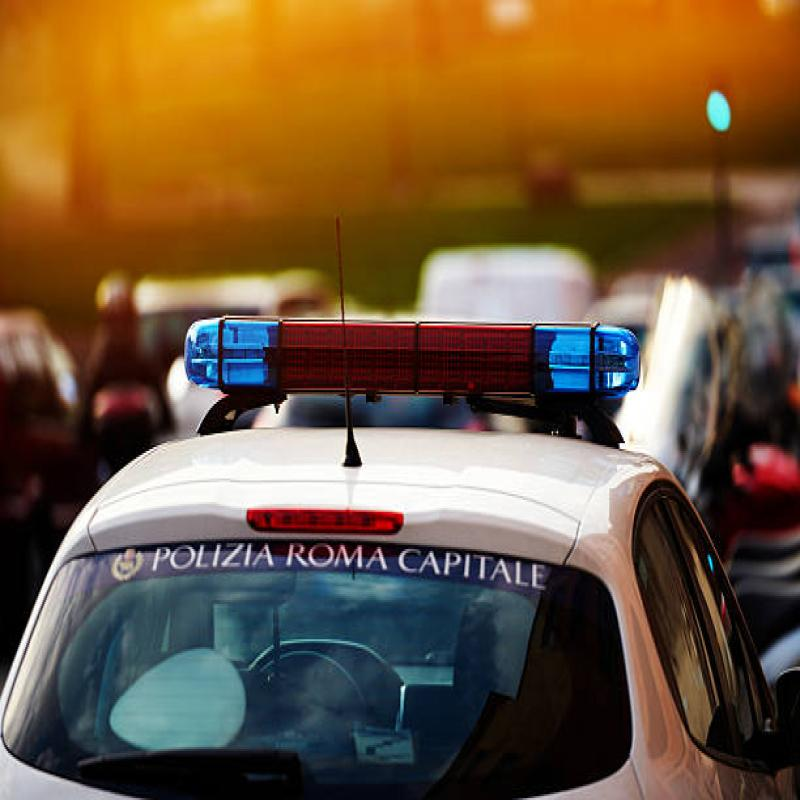AmbulanceSiren: (176, 275, 653, 448)
